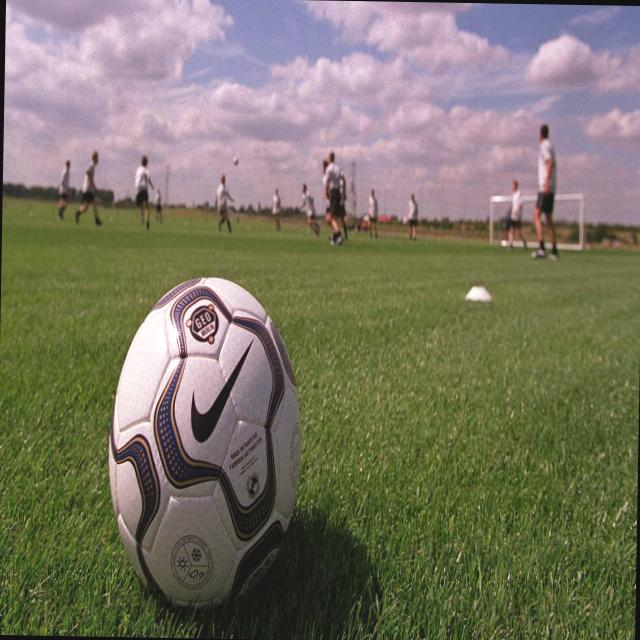Soccer Ball: (108, 274, 304, 612)
